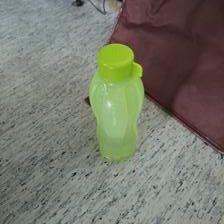bottle: (88, 40, 146, 163)
